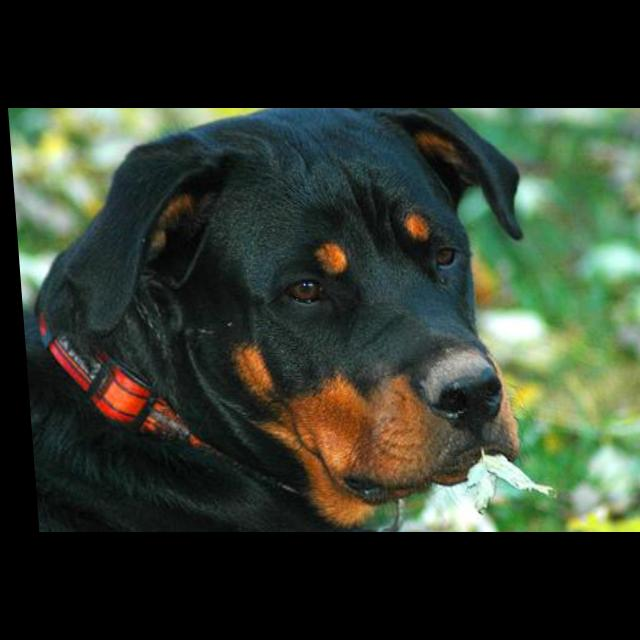rottweiler: (8, 109, 541, 533)
